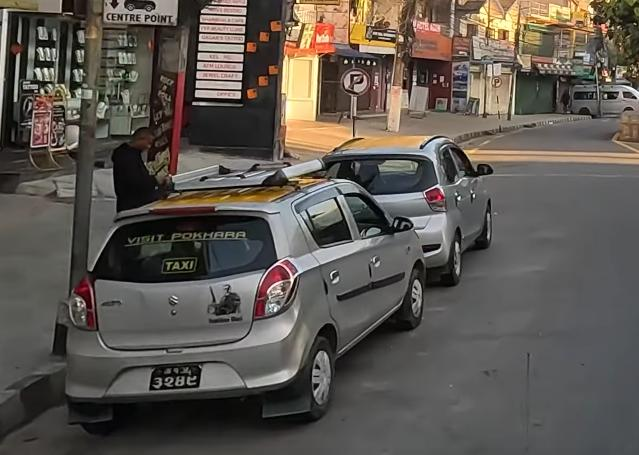micro_bus: (567, 79, 639, 120)
taxi: (47, 154, 427, 439), (312, 129, 502, 279)
